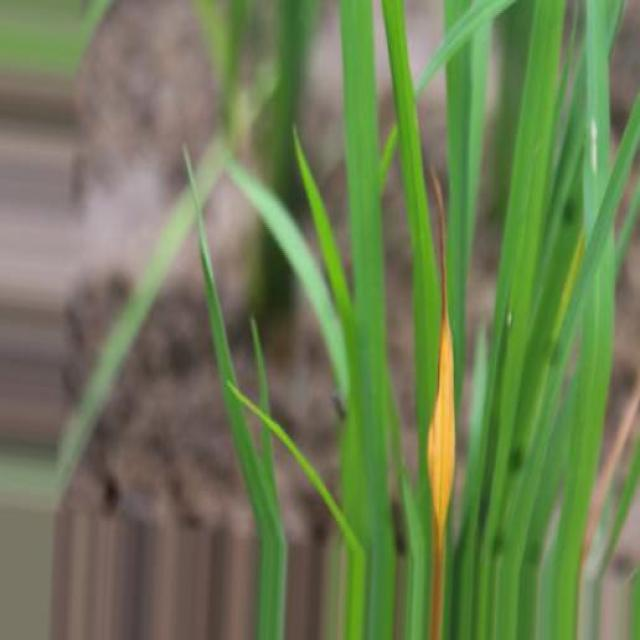Rice Tungro: (426, 178, 456, 638)
